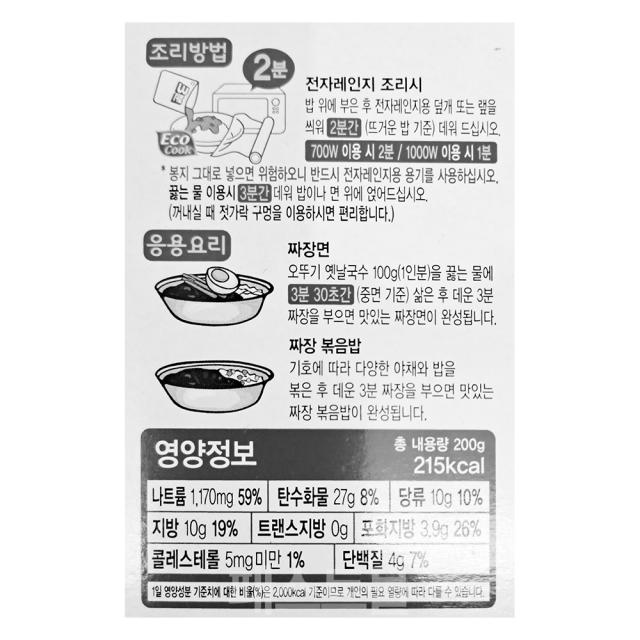Nutrition Label: (137, 427, 508, 620)
